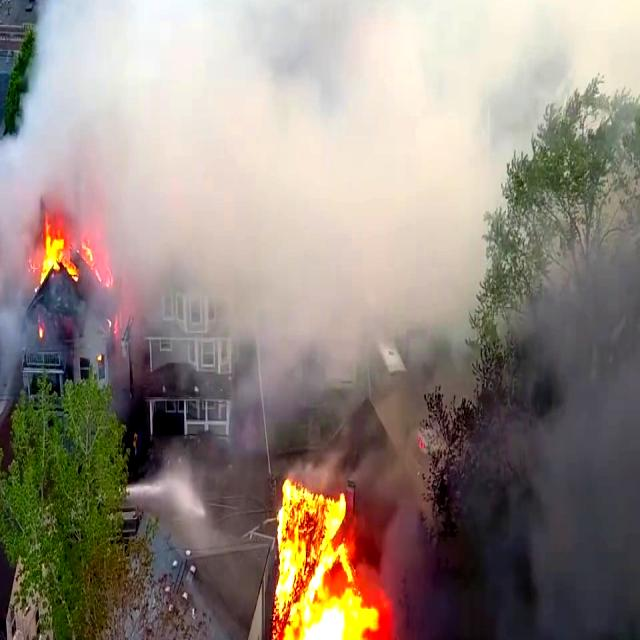fire: (277, 488, 359, 640)
smoke: (73, 0, 455, 230)
